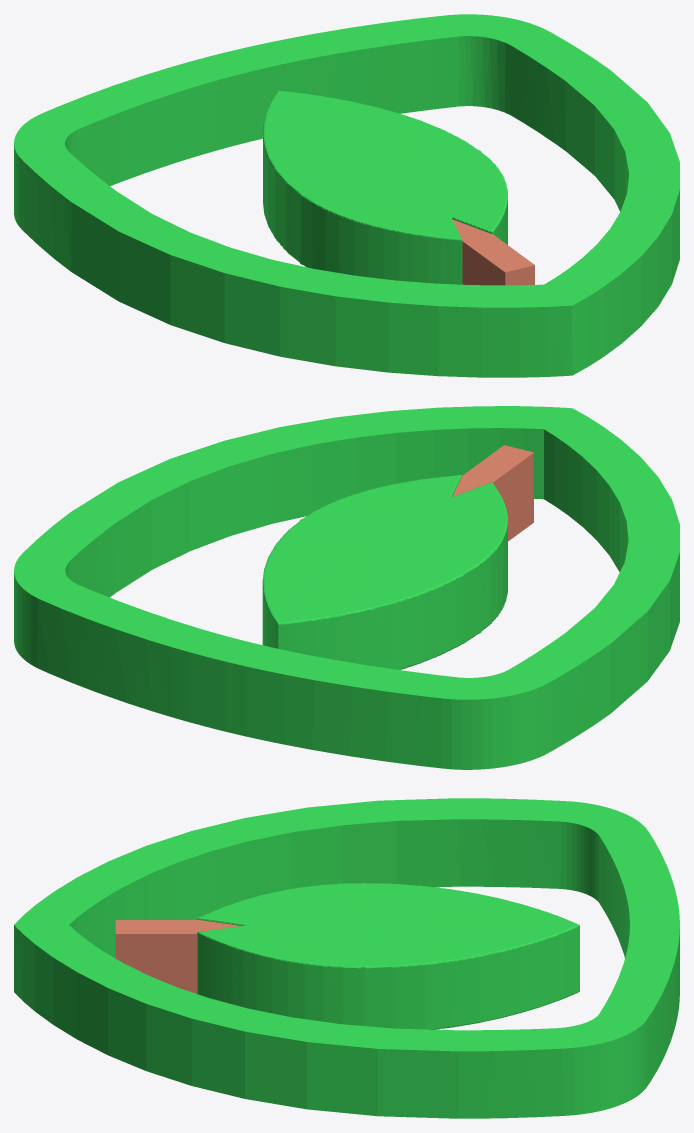
Rendered from mongo-3d.glb.
3 views of the same model, one above another, from view 1: azimuth 30°, elevation 25°; view 2: azimuth 150°, elevation 25°; view 3: azimuth 270°, elevation 25° (orthographic). The views are drawn at different scales.
Visible parts, largest first — view 1: Curve.001; view 2: Curve.001; view 3: Curve.001.
Boxes of the visible parts, bbox=[...] form: Curve.001: bbox=[14, 14, 679, 377]; Curve.001: bbox=[14, 406, 679, 769]; Curve.001: bbox=[14, 798, 679, 1118].
Size of the model in its own units: 9.14 by 1.17 by 10.15.
